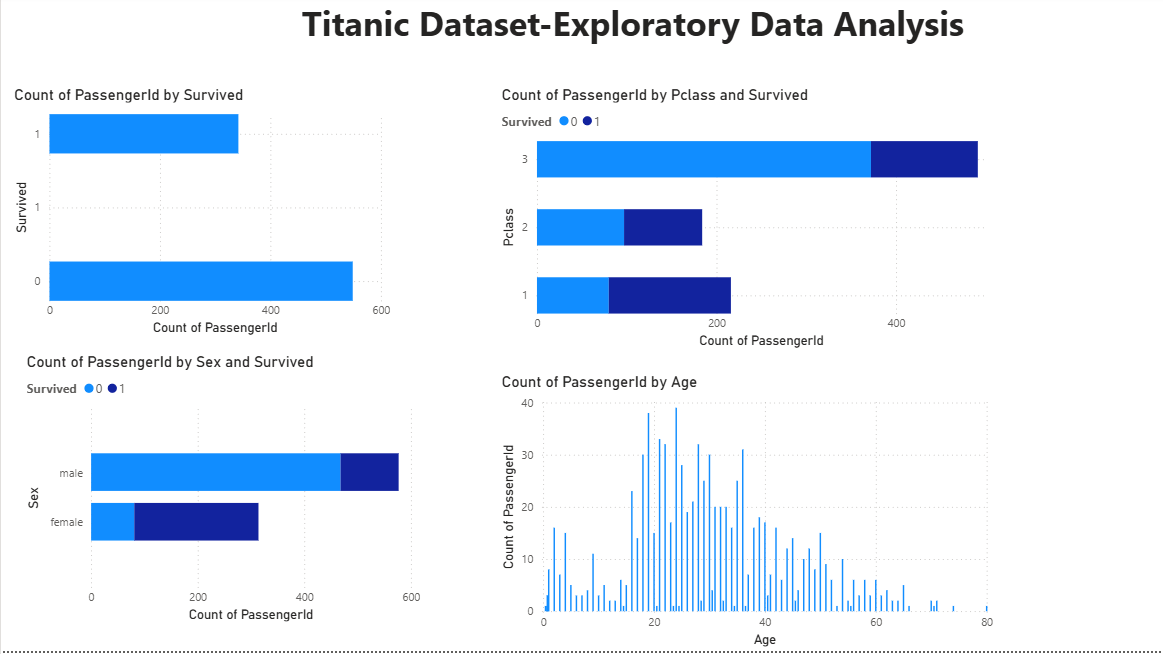

What the dashboard file says about the page in this screenshot:
{"tool":"powerbi","page":{"name":"Page 1","canvas":[1280,720],"ordinal":0},"visuals":[{"type":"clusteredBarChart","fields":{"Category":["train.Survived"],"Y":["CountNonNull(train.PassengerId)"]},"box":[9.6,98.8,422.6,279.9],"z":0},{"type":"barChart","fields":{"Category":["train.Sex"],"Y":["CountNonNull(train.PassengerId)"],"Series":["train.Survived"]},"box":[23.3,392.5,441.9,300.5],"z":1},{"type":"barChart","fields":{"Category":["train.Pclass"],"Y":["CountNonNull(train.PassengerId)"],"Series":["train.Survived"]},"box":[544.8,98.8,551.6,293.7],"z":2},{"type":"clusteredColumnChart","fields":{"Category":["train.Age"],"Y":["CountNonNull(train.PassengerId)"]},"box":[544.8,414.4,550.3,306],"z":3},{"type":"textbox","box":[325.2,0,896.1,98.8],"z":4}]}

Visuals, with their boxes in screenshot pixels (x1, y1, x2, y2), scaled from the page's 1280x720 canvas onto the 1163x654 screenshot:
clusteredBarChart - train.Survived x CountNonNull(train.PassengerId): 9 90 393 344
barChart - train.Sex x CountNonNull(train.PassengerId): 21 357 423 629
barChart - train.Pclass x CountNonNull(train.PassengerId): 495 90 996 357
clusteredColumnChart - train.Age x CountNonNull(train.PassengerId): 495 376 995 653
textbox: 295 0 1110 90
